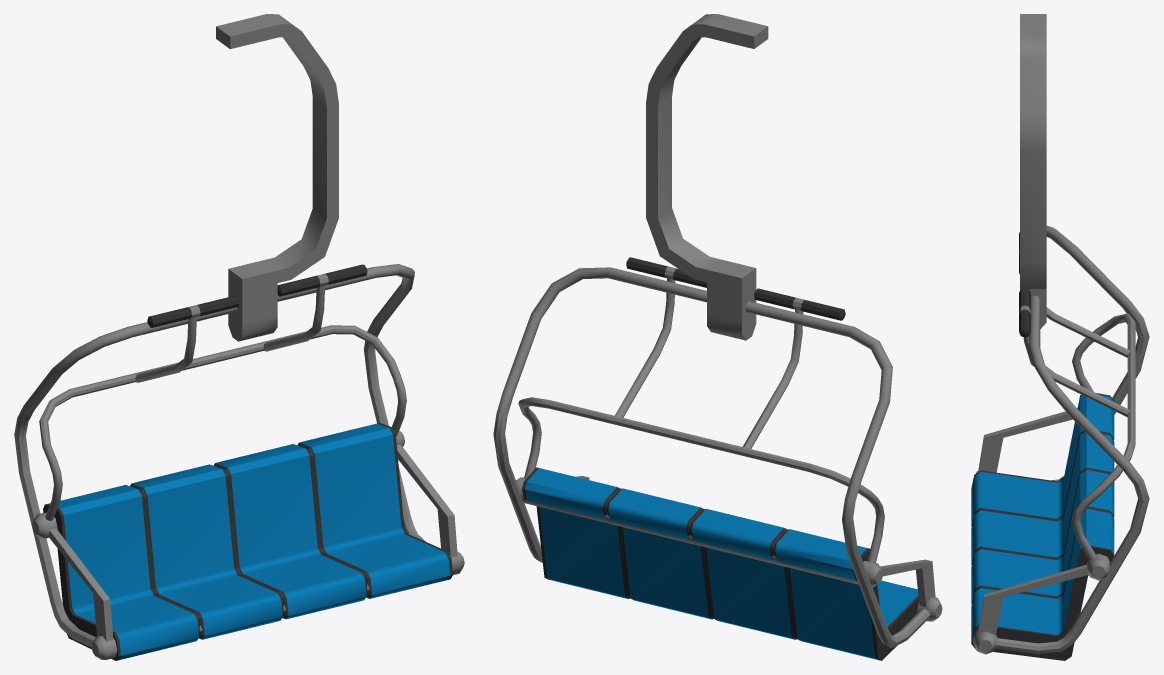
File: 1379_chairlift.glb
3 renders of one model, left to right at view 1: azimuth 30°, elevation 25°; view 2: azimuth 150°, elevation 25°; view 3: azimuth 270°, elevation 25°, orthographic. The views are drawn at different scales.
Visible parts, largest first — view 1: Object_2; view 2: Object_2; view 3: Object_2.
Boxes of the visible parts, left/top/right/bottom form: Object_2: left=14, top=14, right=464, bottom=660; Object_2: left=493, top=14, right=942, bottom=660; Object_2: left=971, top=14, right=1149, bottom=660.
Size of the model in its own units: 84.53 by 129 by 37.61.
Materials: 1 (1 with a texture image).
